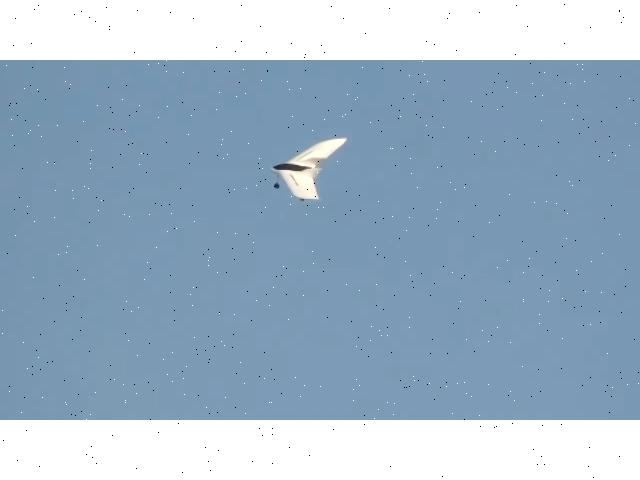Anti-Drone: (272, 140, 346, 200)
